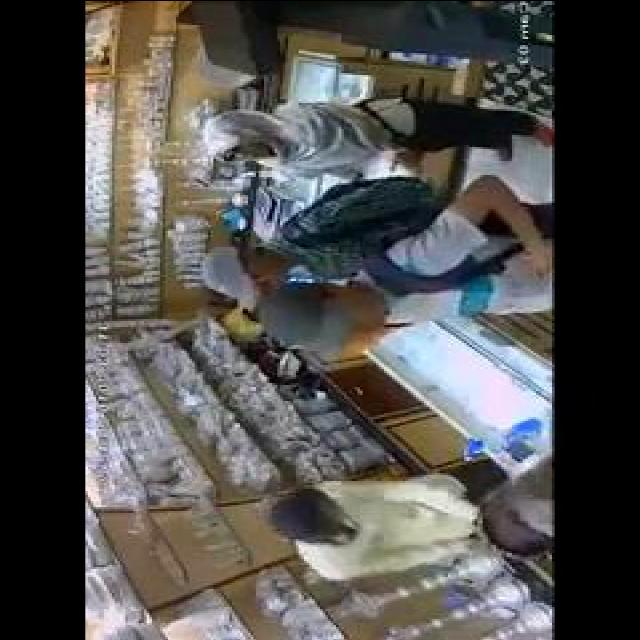Shoplifting: (170, 85, 519, 373)
